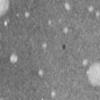white: (84, 59, 100, 88), (9, 53, 20, 67), (23, 12, 33, 23), (80, 57, 90, 67), (61, 26, 70, 37), (14, 11, 22, 23), (49, 89, 57, 100), (38, 41, 49, 49), (37, 67, 44, 79), (63, 2, 71, 12), (88, 4, 96, 14), (93, 8, 100, 18), (3, 19, 8, 31), (46, 19, 51, 28), (57, 19, 62, 25)
